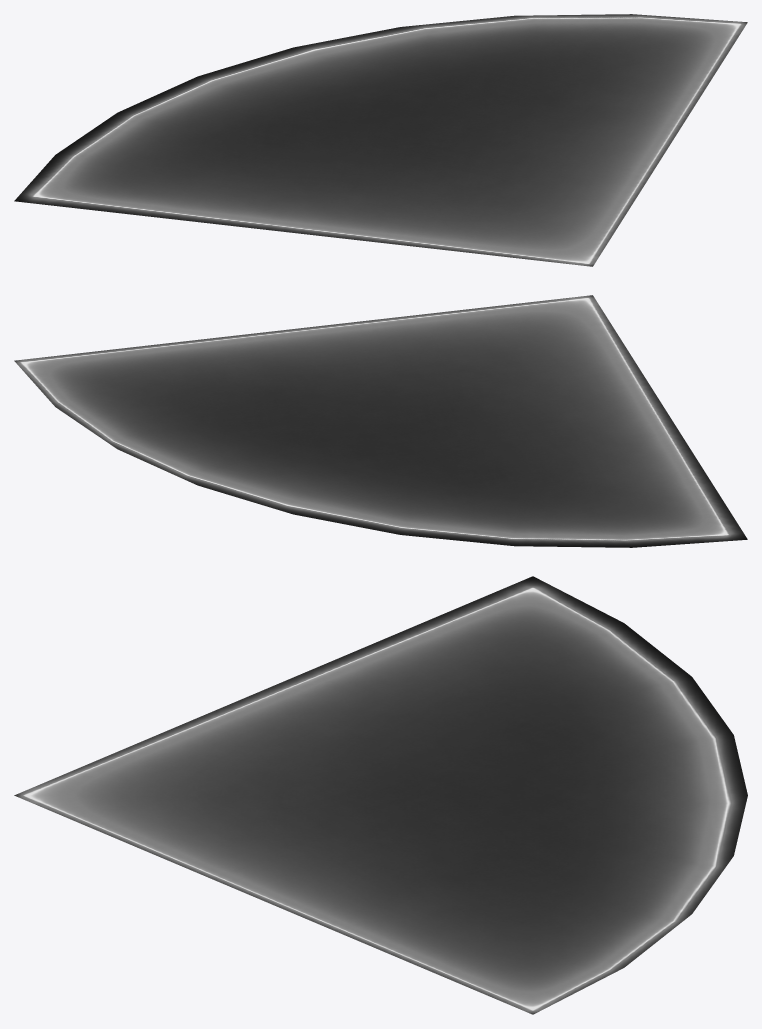
Rendered from DashTelegraphFan.glb.
The picture shows the model from 3 angles, top to bottom: view 1: azimuth 30°, elevation 25°; view 2: azimuth 150°, elevation 25°; view 3: azimuth 270°, elevation 25°; orthographic projection. The views are drawn at different scales.
Parts seen in each view (by area): view 1: Circle; view 2: Circle; view 3: Circle.
Boxes of the visible parts, left/top/right/bottom form: Circle: left=14, top=14, right=747, bottom=266; Circle: left=14, top=295, right=747, bottom=547; Circle: left=14, top=576, right=747, bottom=1014.
Size of the model in its own units: 1.41 by 0 by 1.
1 material, 1 textured.
